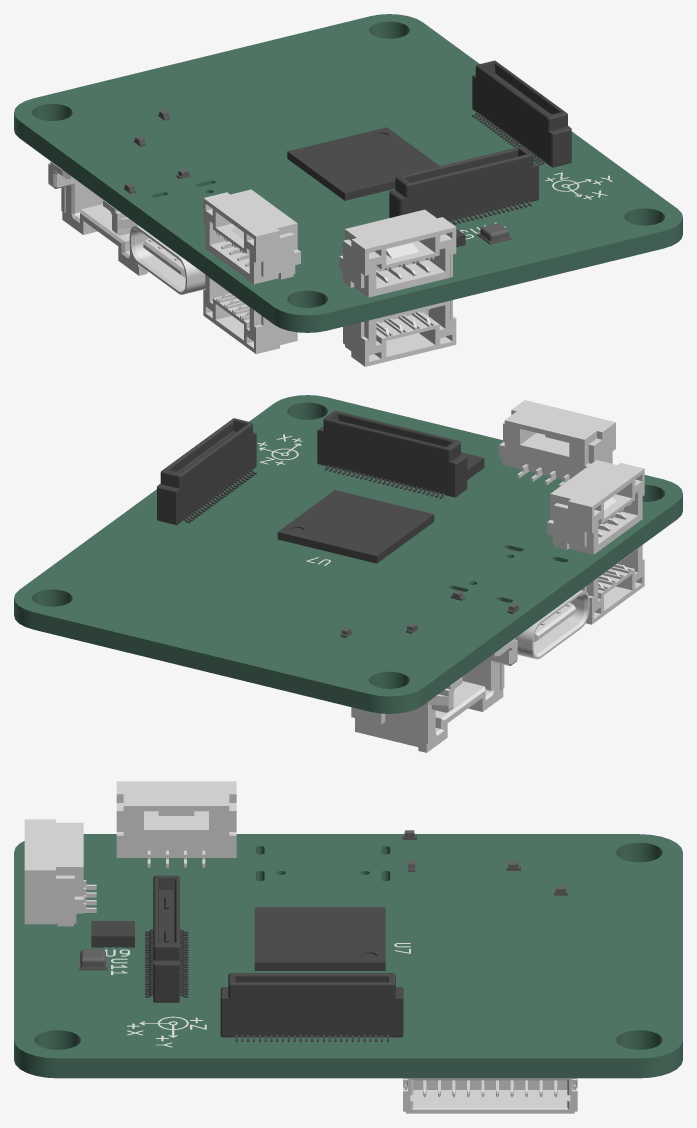
Rendered from MCXN947T1HubV0Minimal.glb.
3 renders of one model, top to bottom at view 1: azimuth 30°, elevation 25°; view 2: azimuth 150°, elevation 25°; view 3: azimuth 270°, elevation 25°, orthographic. The views are drawn at different scales.
Visible parts, largest first — view 1: =>[0:1:1:56].001, J8, J4, J7, J9, =>[0:1:1:186], J3, J1, J6, J2; view 2: =>[0:1:1:56].001, J8, J4, J7, =>[0:1:1:186], J9, J1, J2, J6; view 3: =>[0:1:1:56].001, J9, J7, =>[0:1:1:186], J4, J5, J8, U9, =>[0:1:1:54].001, U11.
Boxes of the visible parts, x1,y1,x2,y2 form: =>[0:1:1:56].001: (14, 14, 682, 332); J8: (389, 146, 538, 224); J4: (339, 209, 456, 297); J7: (203, 189, 300, 284); J9: (472, 60, 571, 167); =>[0:1:1:186]: (287, 127, 439, 200); J3: (343, 300, 456, 366); J1: (48, 161, 147, 275); J6: (203, 274, 297, 353); J2: (129, 225, 205, 294); =>[0:1:1:56].001: (14, 395, 682, 713); J8: (317, 410, 467, 498); J4: (499, 400, 615, 487); J7: (547, 460, 644, 554); =>[0:1:1:186]: (277, 490, 434, 563); J9: (157, 418, 256, 525); J1: (351, 638, 517, 752); J2: (515, 590, 589, 659); J6: (581, 545, 644, 624); =>[0:1:1:56].001: (14, 834, 682, 1078); J9: (220, 973, 403, 1041); J7: (116, 781, 236, 867); =>[0:1:1:186]: (254, 907, 385, 970); J4: (24, 819, 96, 926); J5: (403, 1078, 577, 1113); J8: (145, 875, 188, 1002); U9: (91, 921, 134, 947); =>[0:1:1:54].001: (105, 943, 410, 1047); U11: (78, 949, 107, 970).
Size of the model in its own units: 0.0365 by 0.0118 by 0.046.
